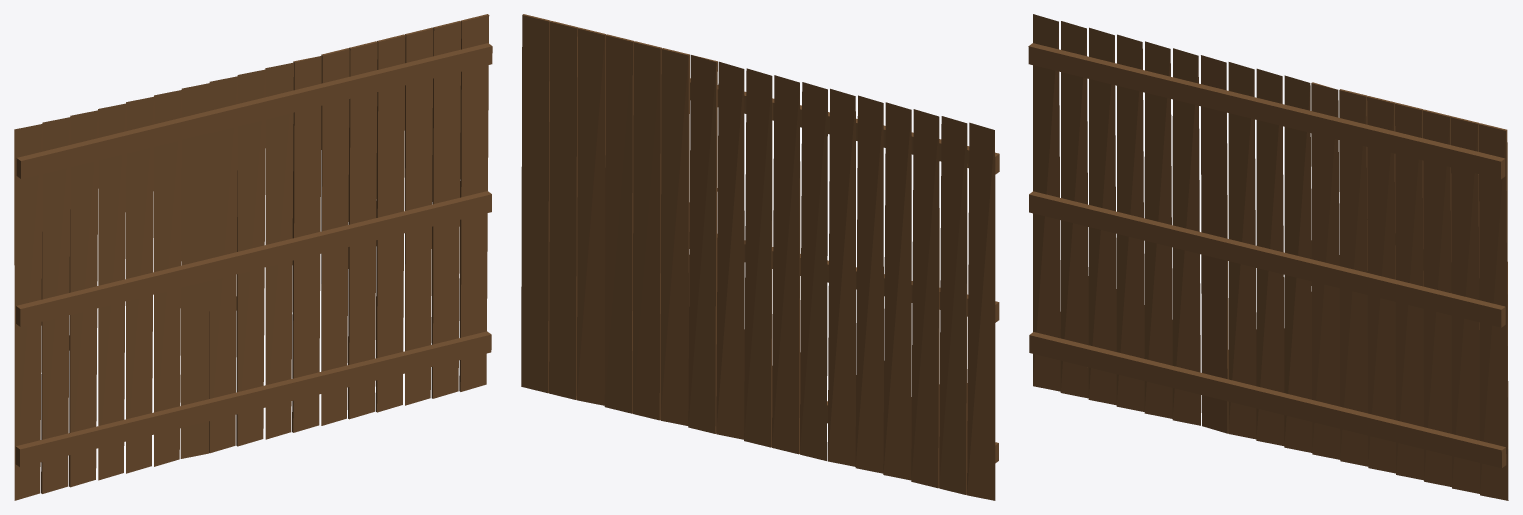
The model's file is privacy-fence.lod2.glb.
3 views of the same model, side by side, from view 1: azimuth 30°, elevation 25°; view 2: azimuth 150°, elevation 25°; view 3: azimuth 330°, elevation 25° (orthographic).
Visible parts, largest first — view 1: Fence_17_DE_Fence_17_DE_map_0; view 2: Fence_17_DE_Fence_17_DE_map_0; view 3: Fence_17_DE_Fence_17_DE_map_0.
Part boxes in pixels (bbox=[...]): Fence_17_DE_Fence_17_DE_map_0: bbox=[14, 14, 492, 500]; Fence_17_DE_Fence_17_DE_map_0: bbox=[521, 14, 999, 500]; Fence_17_DE_Fence_17_DE_map_0: bbox=[1028, 14, 1508, 500].
Bounding box in the file's own units: 2.72 × 2.04 × 0.0674.
